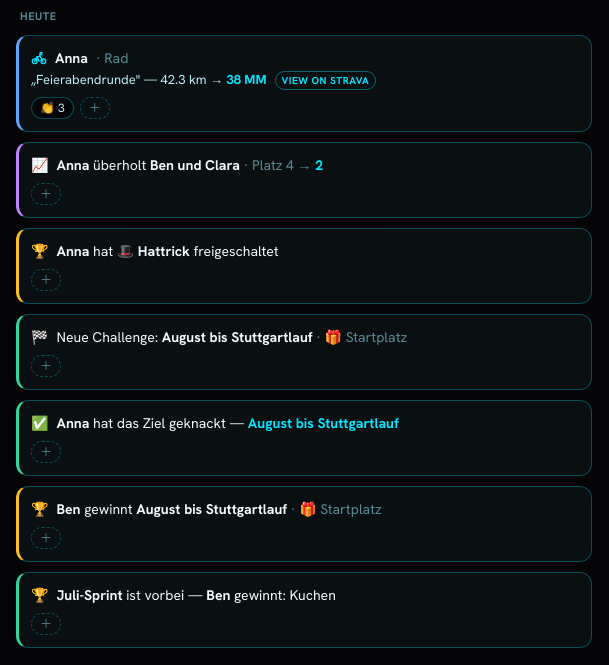
Test case: Feed › zeigt die Achievement-Beschreibung beim Klick
Expected: the text "Drei Aktivitäten an einem Tag" is not shown
Step 1. Click the button "🎩 Hattrick" → (153, 251), box [117,242,190,260]
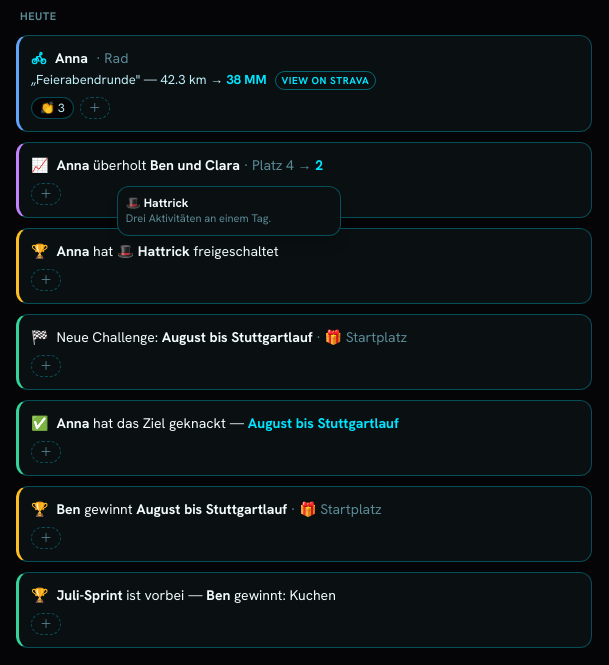
Expected: the text "Drei Aktivitäten an einem Tag." is shown, [126,211,271,225]
